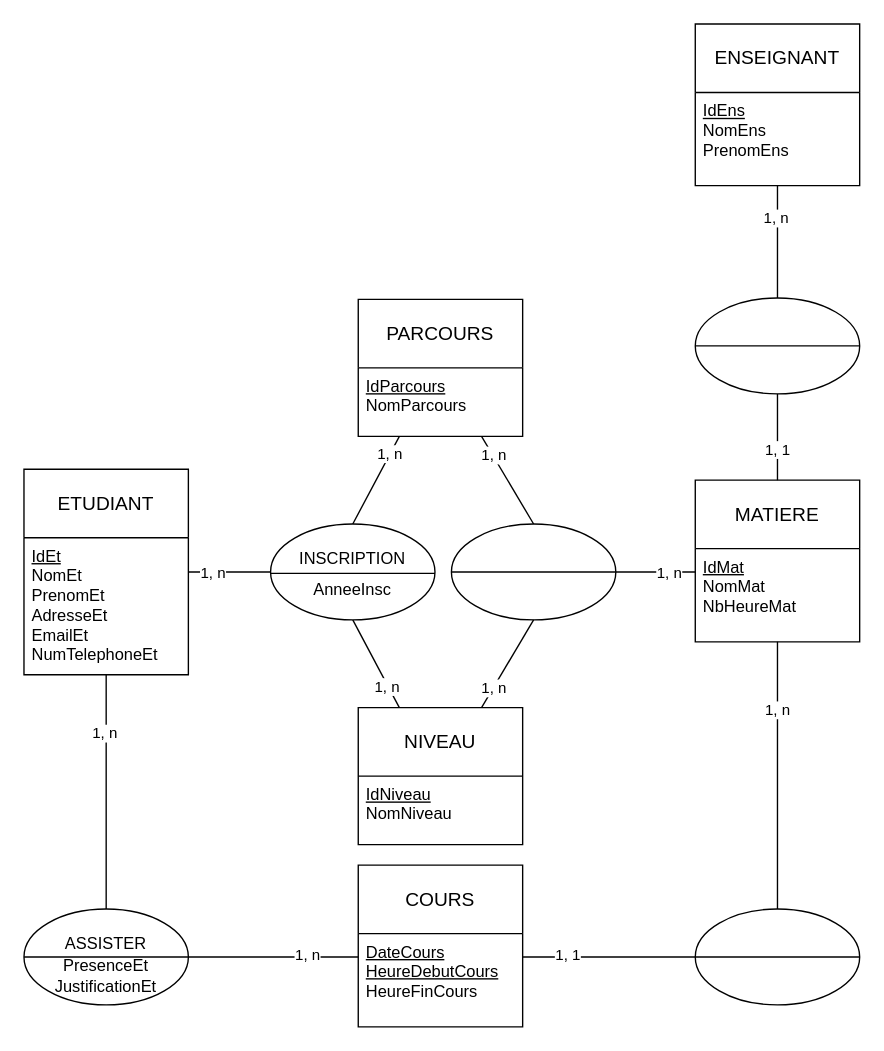
Some shapes in this 884 by 1051 pixel diagram are drawn without their labels. Each missing label, with the centre of its shape:
"ASSOCIE A" goes at pixel 533 571.
"ENSEIGNER" goes at pixel 777 345.
"S'EFFECTUER" goes at pixel 777 956.
